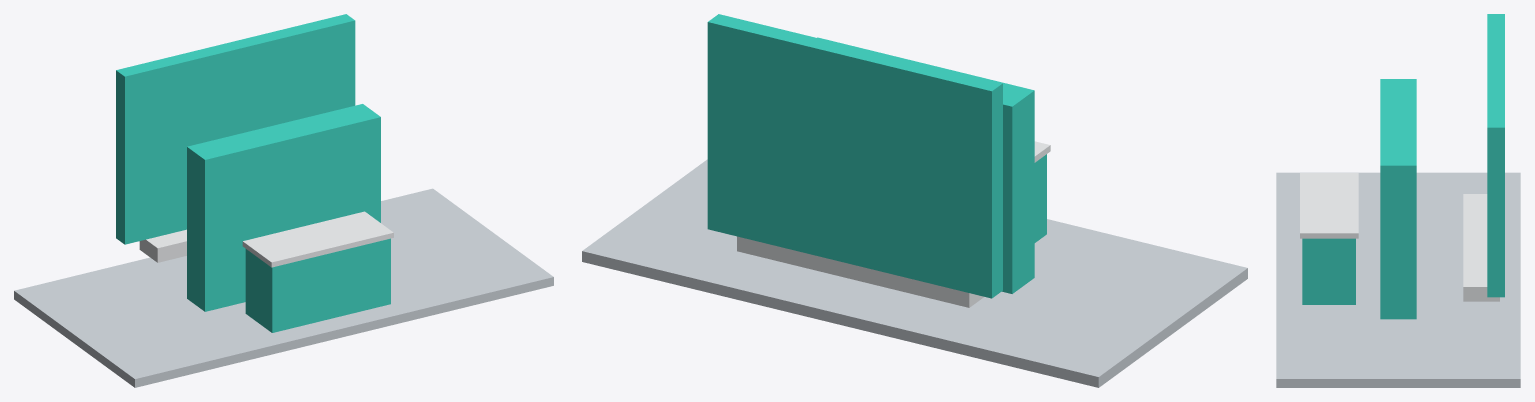
3 renders of one model, left to right at view 1: azimuth 30°, elevation 25°; view 2: azimuth 150°, elevation 25°; view 3: azimuth 270°, elevation 25°, orthographic. The views are drawn at different scales.
Parts seen in each view (by area): view 1: Exhibition Booth Concept; view 2: Exhibition Booth Concept; view 3: Exhibition Booth Concept.
Part boxes in pixels (left/top/right/bottom): Exhibition Booth Concept: left=14, top=14, right=553, bottom=387; Exhibition Booth Concept: left=582, top=14, right=1247, bottom=387; Exhibition Booth Concept: left=1276, top=14, right=1520, bottom=387.
Bounding box in the file's own units: 6 × 2.9 × 3.
